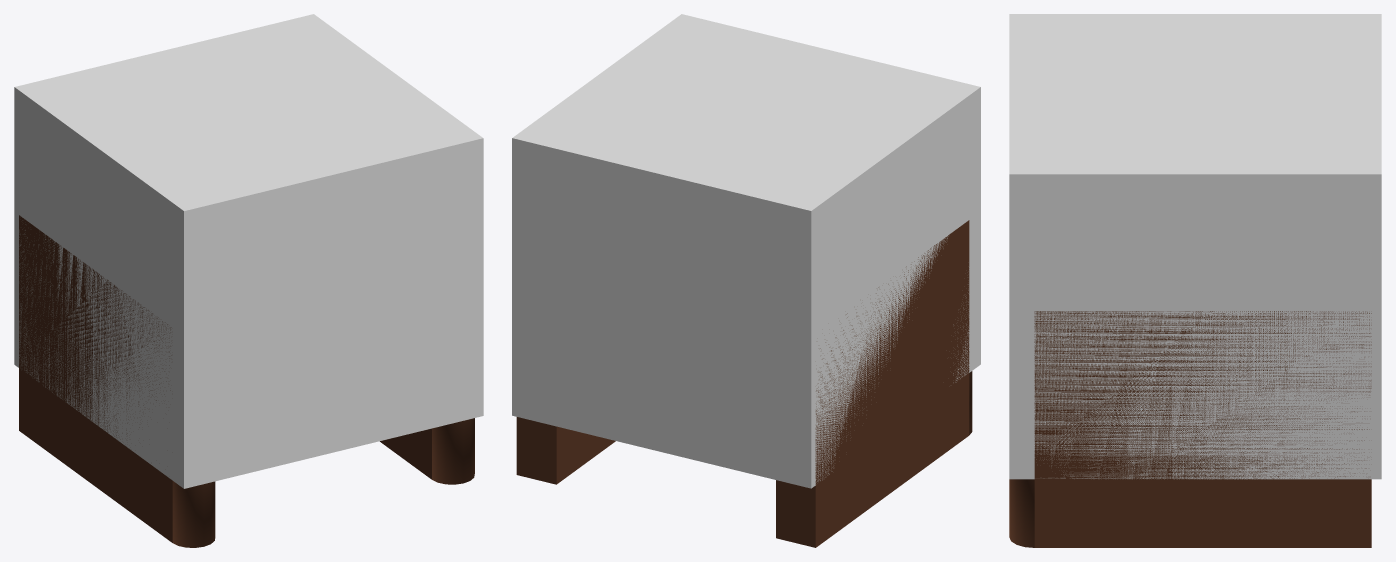
Rendered from Furn_Armchair.001.gltf.
3 renders of one model, left to right at view 1: azimuth 30°, elevation 25°; view 2: azimuth 150°, elevation 25°; view 3: azimuth 270°, elevation 25°, orthographic. The views are drawn at different scales.
Visible parts, largest first — view 1: Furn_Armchair.001_COL, Furn_Armchair.001; view 2: Furn_Armchair.001_COL, Furn_Armchair.001; view 3: Furn_Armchair.001_COL, Furn_Armchair.001.
Part boxes in pixels (x1,y1,x2,y2): Furn_Armchair.001_COL: (14,14,483,488); Furn_Armchair.001: (19,215,474,547); Furn_Armchair.001_COL: (512,14,980,488); Furn_Armchair.001: (516,220,972,547); Furn_Armchair.001_COL: (1009,14,1381,479); Furn_Armchair.001: (1009,311,1371,547).
Size of the model in its own units: 0.9 by 0.978 by 0.8834.
